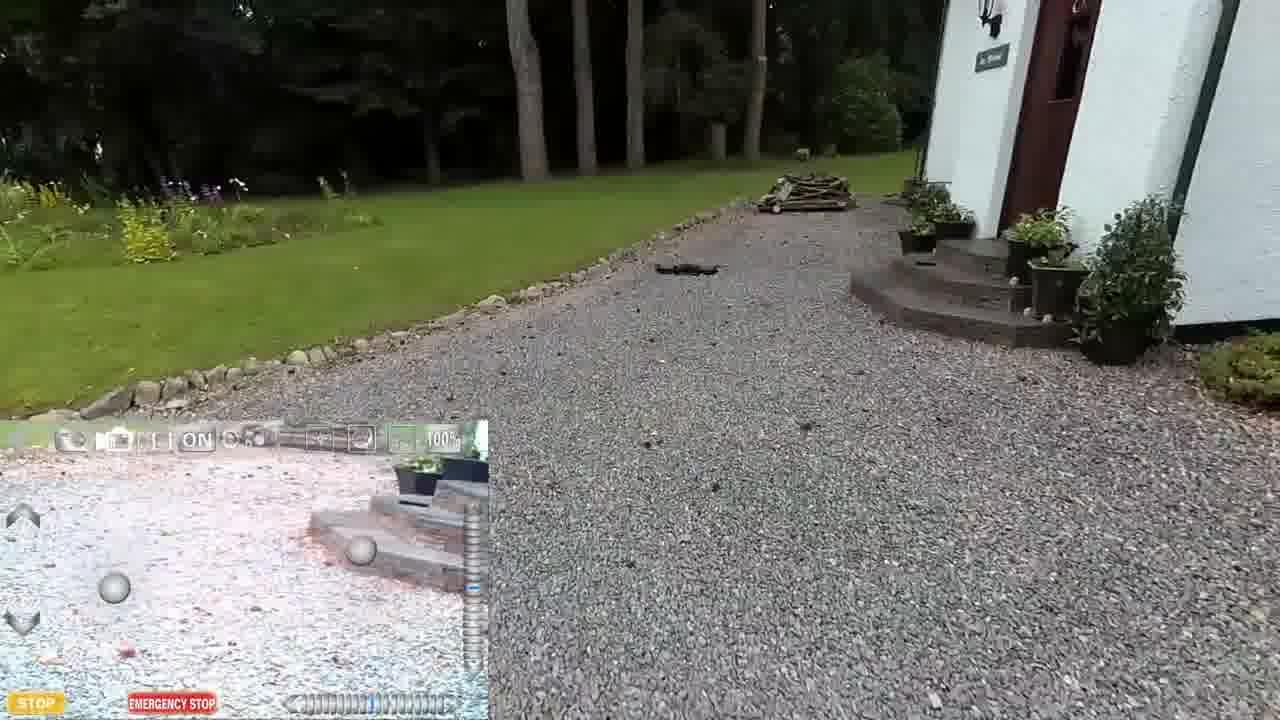drone: (645, 247, 737, 285)
